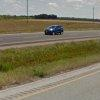Car: (41, 22, 65, 38)
